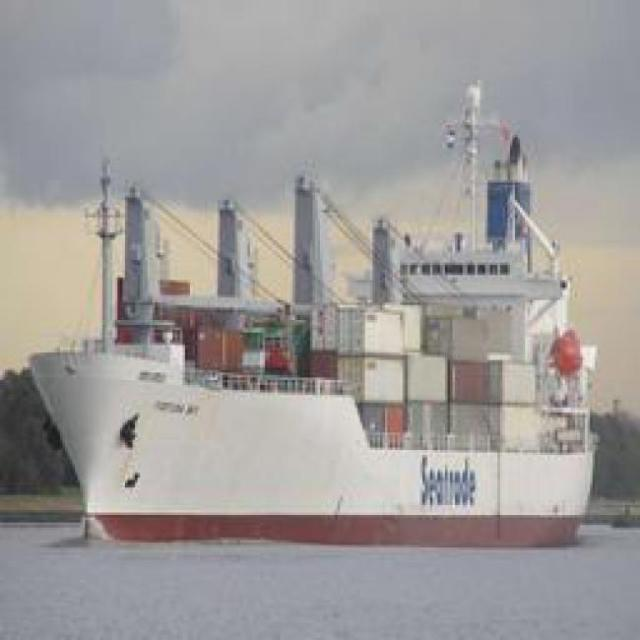boat: (28, 200, 592, 548)
